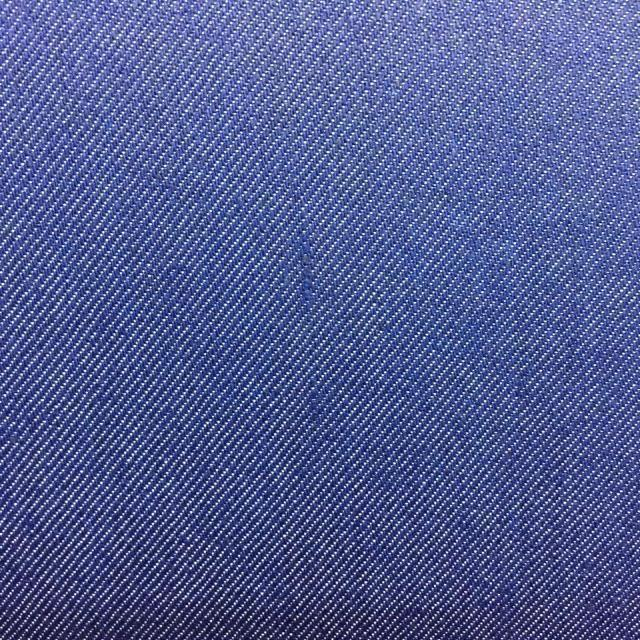Line: (290, 212, 326, 446)
